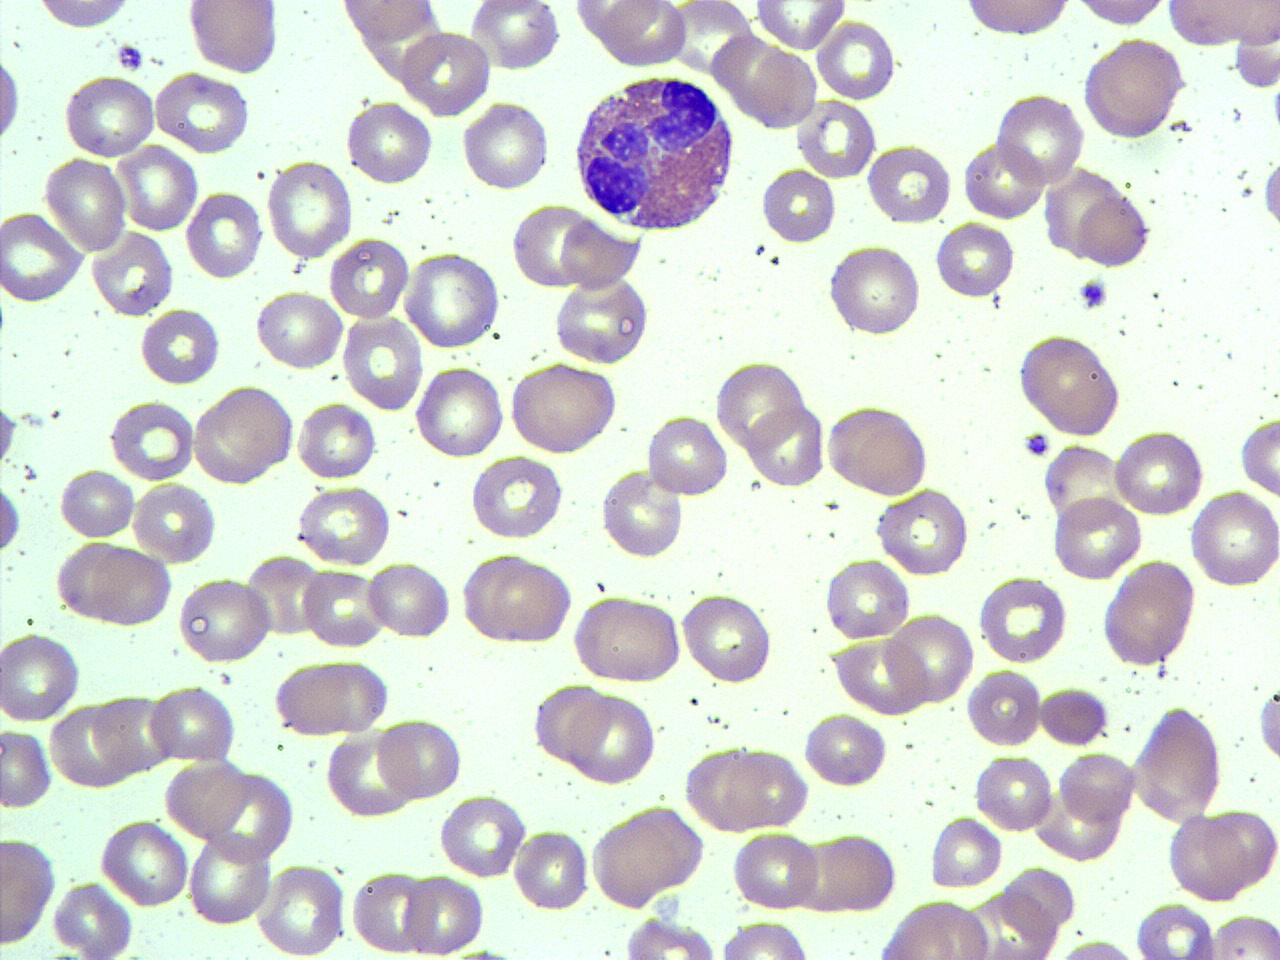Platelets: (1253, 680, 1280, 766), (1261, 155, 1280, 234), (0, 400, 19, 468), (113, 40, 146, 73), (1077, 276, 1109, 310), (461, 942, 507, 960), (1023, 430, 1051, 459), (1269, 83, 1280, 135)
RBC: (589, 803, 707, 910), (1015, 330, 1125, 439), (1079, 36, 1189, 142), (1131, 702, 1225, 822), (460, 550, 575, 646), (1101, 557, 1197, 668), (507, 360, 618, 456), (570, 593, 684, 686), (824, 403, 932, 499), (403, 249, 502, 349), (826, 242, 924, 339), (712, 356, 808, 453), (264, 156, 354, 260), (270, 656, 380, 741), (1187, 488, 1279, 589), (678, 592, 776, 686), (552, 273, 650, 366), (566, 688, 657, 788), (992, 90, 1086, 185), (876, 485, 972, 579), (254, 860, 346, 958), (413, 362, 505, 460), (176, 575, 275, 666), (150, 68, 252, 154), (97, 817, 190, 911), (460, 99, 552, 194), (683, 742, 779, 834), (1111, 426, 1207, 516), (885, 610, 976, 706), (470, 452, 566, 542), (976, 573, 1070, 664), (294, 482, 394, 568), (340, 310, 424, 410), (324, 724, 412, 820), (62, 71, 158, 159), (43, 156, 129, 254), (188, 830, 273, 928), (401, 27, 492, 118), (600, 465, 685, 561), (0, 208, 84, 306), (342, 99, 435, 186), (833, 633, 928, 718), (146, 681, 241, 764), (437, 792, 526, 880), (822, 555, 912, 642), (376, 712, 463, 803), (0, 628, 82, 724), (116, 141, 201, 233), (91, 228, 175, 320), (1050, 496, 1142, 581), (723, 745, 813, 830), (1040, 439, 1124, 530), (1043, 166, 1125, 260), (728, 830, 820, 912), (644, 412, 730, 500), (253, 288, 344, 371), (132, 479, 218, 566), (350, 866, 432, 956), (109, 397, 195, 483), (214, 382, 297, 470), (327, 234, 410, 322), (89, 544, 174, 628), (864, 141, 950, 225), (366, 559, 453, 642), (511, 201, 594, 288), (528, 678, 610, 766), (185, 189, 264, 280), (182, 0, 280, 74), (959, 138, 1046, 221), (300, 565, 383, 650), (746, 402, 826, 490), (877, 898, 992, 960), (512, 824, 591, 914), (294, 398, 378, 482), (402, 872, 488, 954), (1165, 814, 1245, 902), (800, 710, 889, 788), (795, 97, 877, 178), (816, 18, 896, 102), (468, 0, 563, 70), (1, 834, 58, 950), (557, 214, 644, 290), (138, 306, 219, 386), (974, 753, 1054, 834), (964, 666, 1042, 748), (936, 220, 1016, 301), (51, 879, 134, 956), (1205, 804, 1277, 890), (759, 165, 838, 244), (822, 830, 898, 912), (600, 0, 690, 68), (927, 812, 1004, 891), (1073, 192, 1151, 269), (58, 465, 136, 542), (1058, 748, 1136, 824), (752, 1, 850, 53), (1132, 901, 1218, 959), (1164, 0, 1260, 49), (618, 914, 724, 958), (0, 725, 54, 811), (1039, 682, 1109, 747), (959, 0, 1073, 39), (335, 0, 436, 43), (718, 918, 814, 958), (572, 0, 662, 42), (1237, 415, 1280, 496), (30, 0, 135, 33), (1209, 912, 1279, 959), (1070, 0, 1172, 30), (1254, 680, 1280, 772), (0, 49, 22, 150), (0, 480, 23, 556)
WBC: (570, 66, 738, 237), (1260, 152, 1280, 236)
